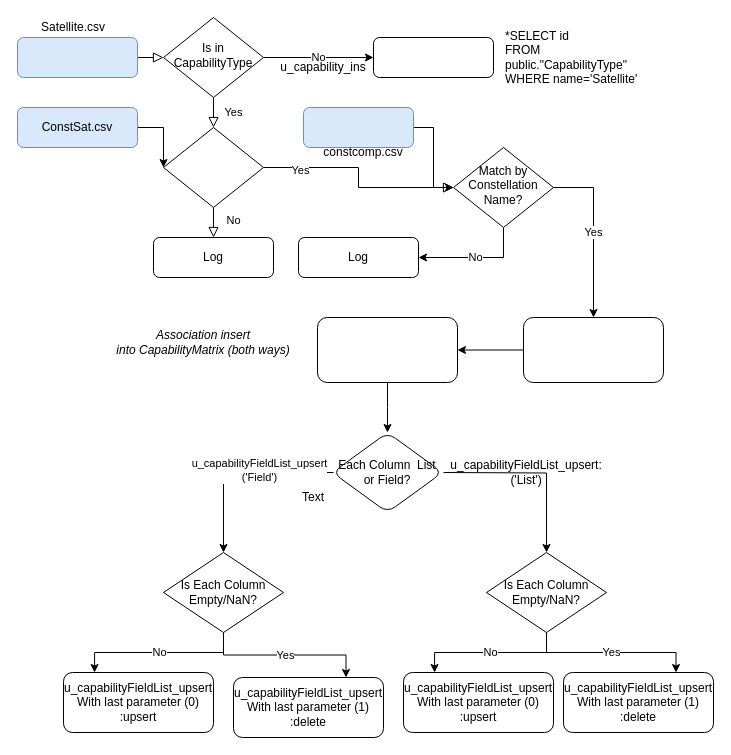
The diagram is 731 pixels wide and 755 high, and some of its shapes have lost their labels. The centre of each missing label's shape, as x and y in pixels:
CapabilityName, 65 *TypeId=65, Name=Satellite: (433,57)
Const + Company + SM_ID where Primary: (358,127)
Match Sat Name?: (213,167)
Satellite(Name): (77,57)
u_capability_ins Insert to Capability with CapabilityName, SM_ID: (593,349)
u_capabilityMatrix_ins Insert to CapabilityMatrix ConstNm,7,SatNm,3: (387,349)
